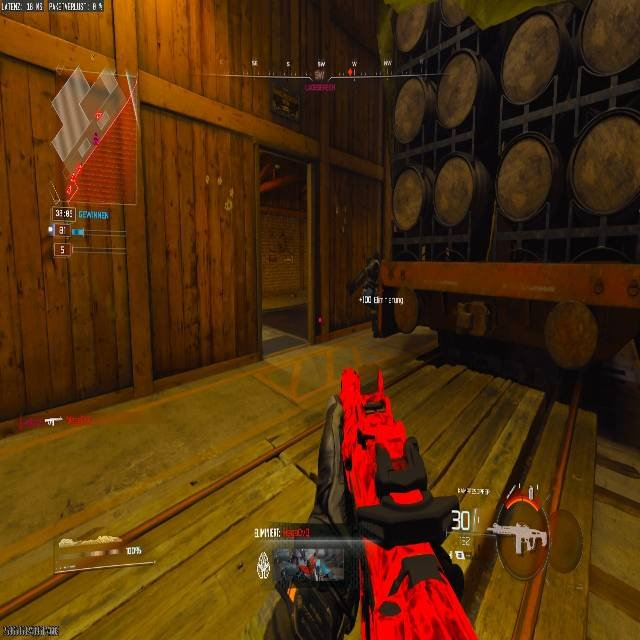player: (388, 0, 640, 262), (358, 254, 391, 302)
